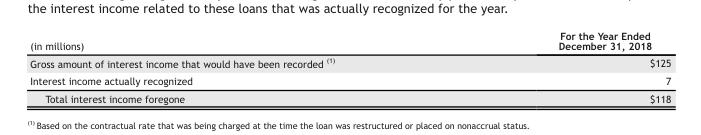table: (29, 29, 670, 104)
table column: (29, 29, 445, 104), (445, 29, 670, 104)
table column header: (29, 29, 670, 53)
table row: (29, 29, 670, 53), (29, 53, 670, 71), (29, 71, 670, 89), (29, 89, 670, 104)
